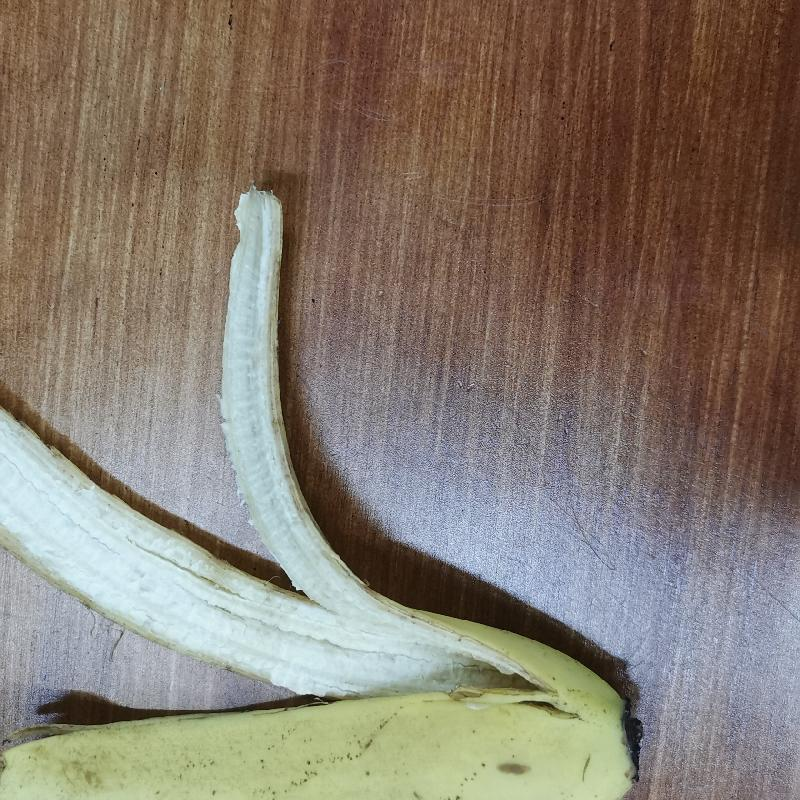bananas: (7, 186, 650, 799)
